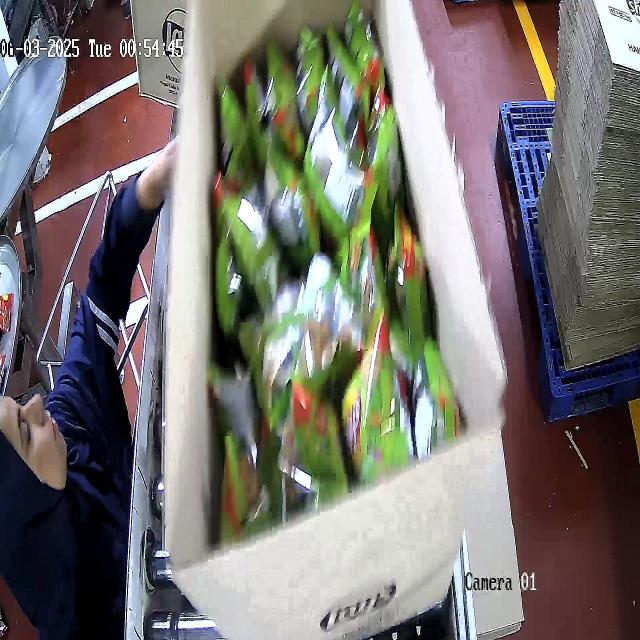YOGURT_HERB: (205, 10, 444, 542)
